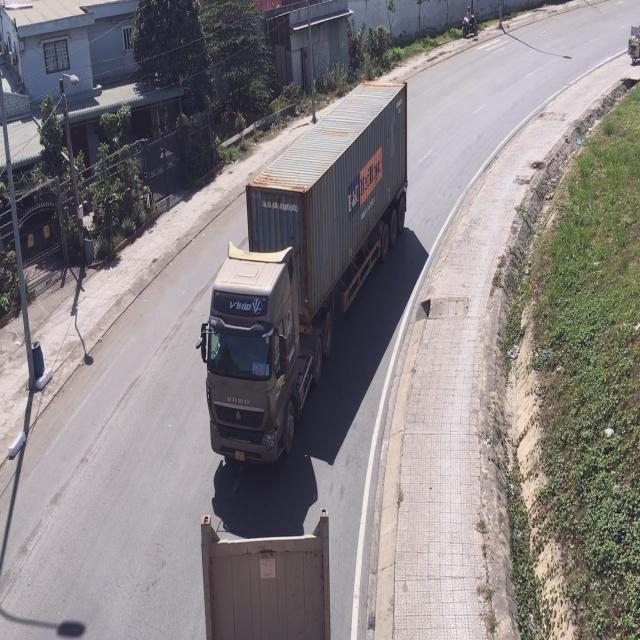truck: (196, 82, 410, 469)
